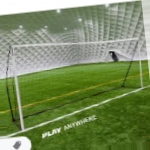goals: (6, 35, 146, 129)
